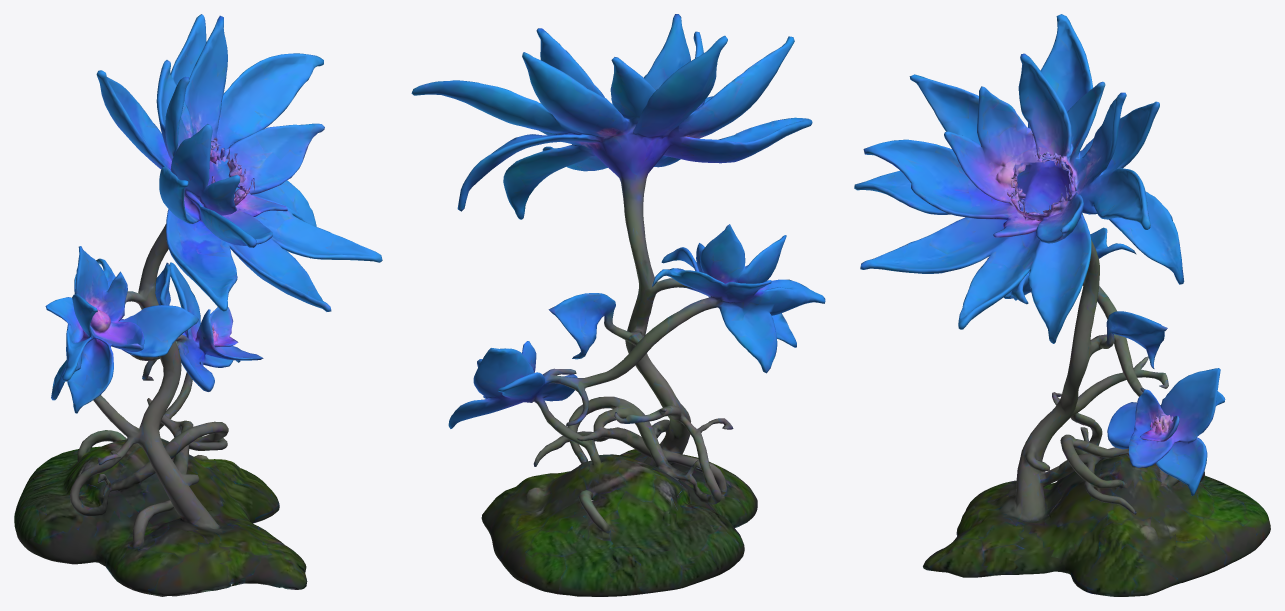
The model's file is plant1.glb.
3 renders of one model, left to right at view 1: azimuth 30°, elevation 25°; view 2: azimuth 150°, elevation 25°; view 3: azimuth 270°, elevation 25°, orthographic. The views are drawn at different scales.
Bounding box in the file's own units: 1.4 × 1.99 × 1.54.
Materials: 1 (1 with a texture image).
